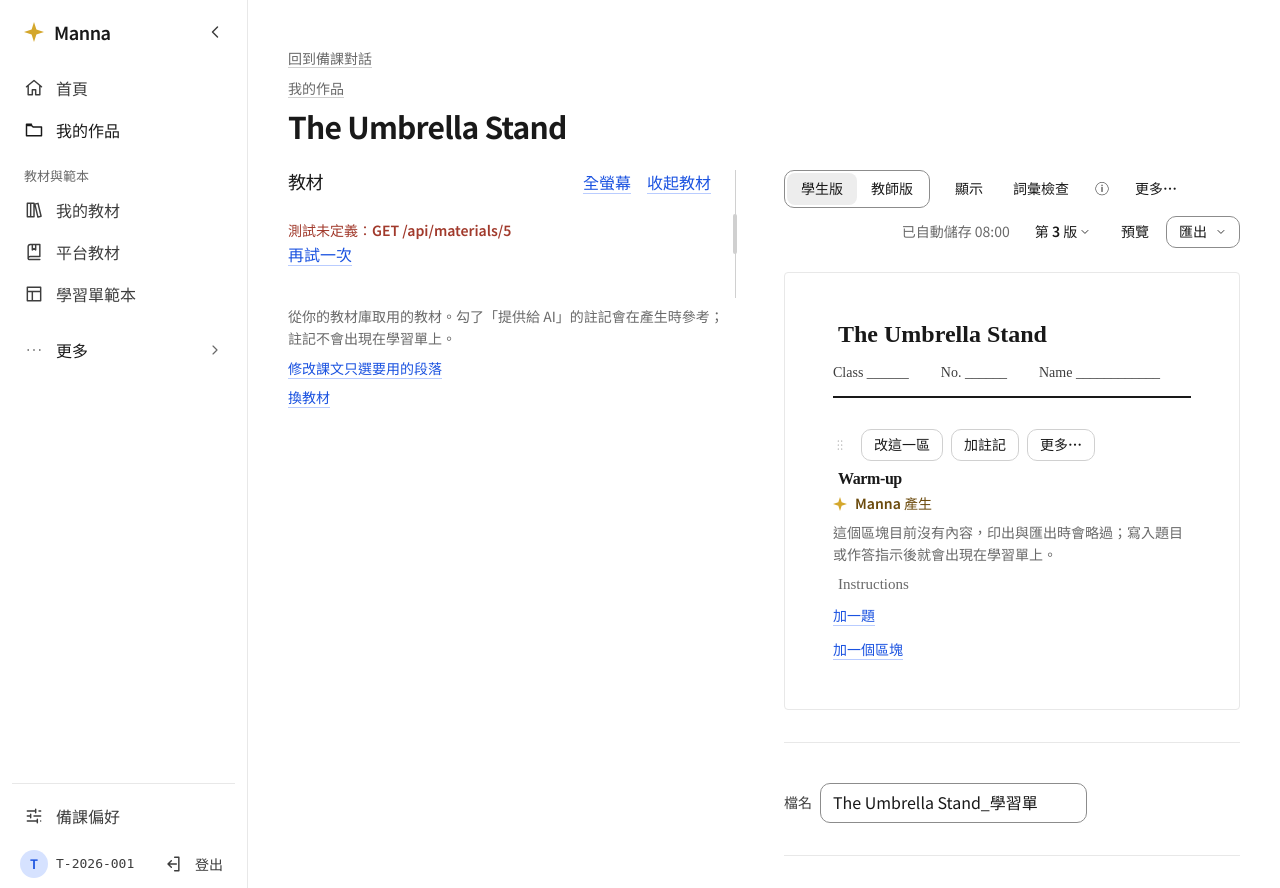
Key Vocabulary in the editor: the language switch › a sheet without Key Vocabulary has its two switches off and says the Word bank is another thing
The image size is (1280, 888).
Click the button "顯示".
click(969, 189)  # box 942,173 -> 996,205
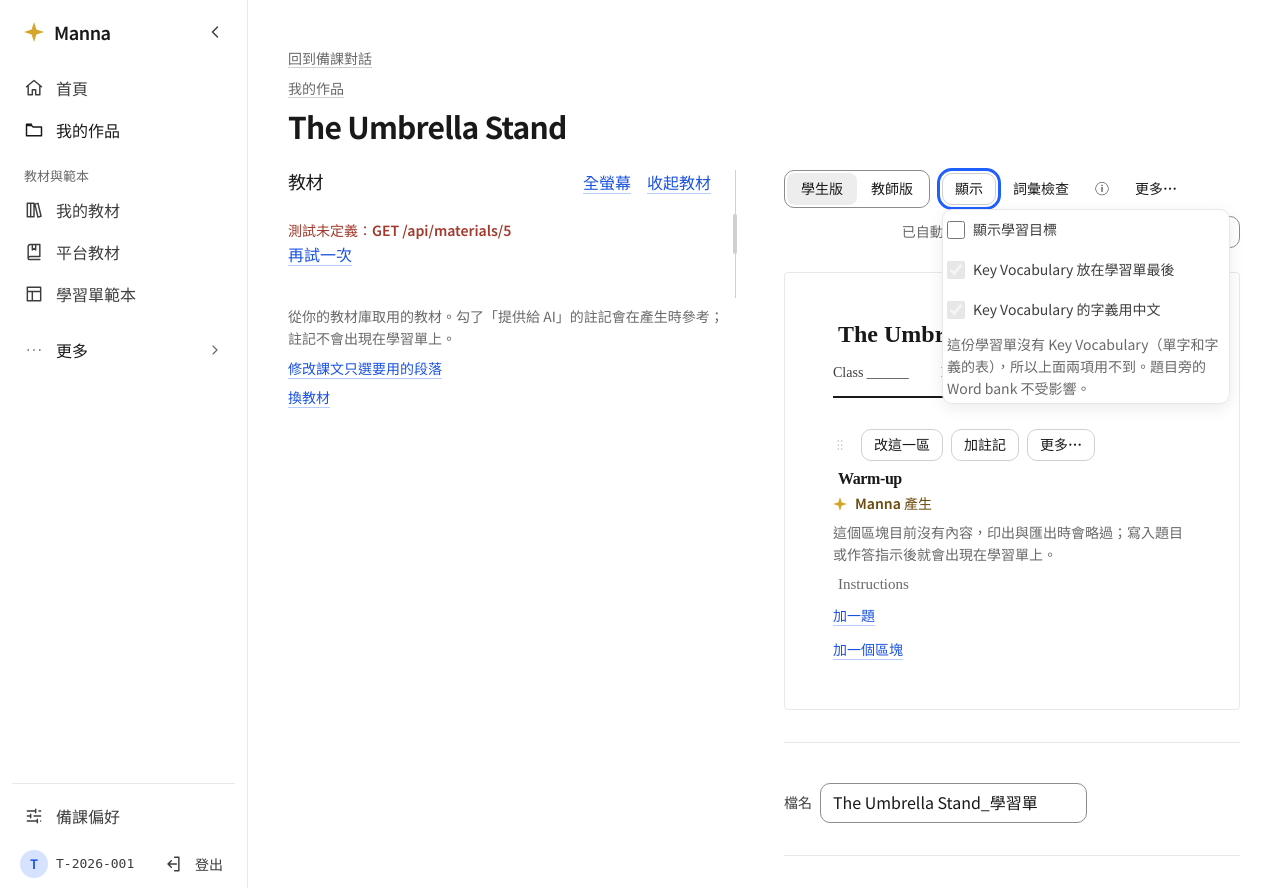
Check: the checkbox labelled "顯示學習目標" is enabled, box 947,221 -> 965,239
Check: the checkbox labelled "Key Vocabulary 放在學習單最後" is disabled, box 947,261 -> 965,279
Check: the checkbox labelled "Key Vocabulary 的字義用中文" is disabled, box 947,301 -> 965,319
